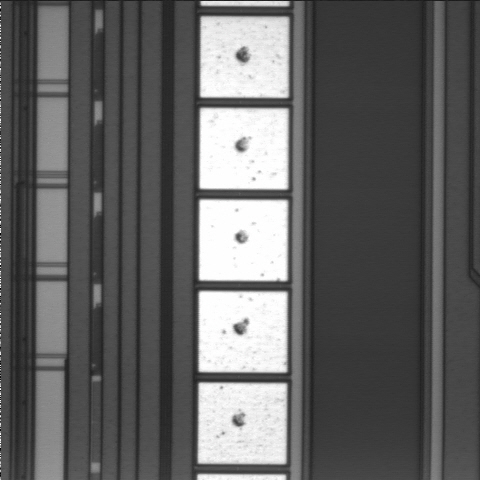pad: (199, 108, 288, 190), (199, 199, 288, 281), (199, 291, 287, 373), (200, 17, 289, 98), (198, 383, 287, 464)
